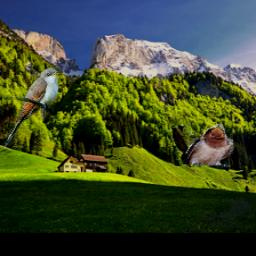Cuckoo: (3, 67, 59, 148), (163, 104, 199, 167)
Swallow: (183, 125, 233, 168)
